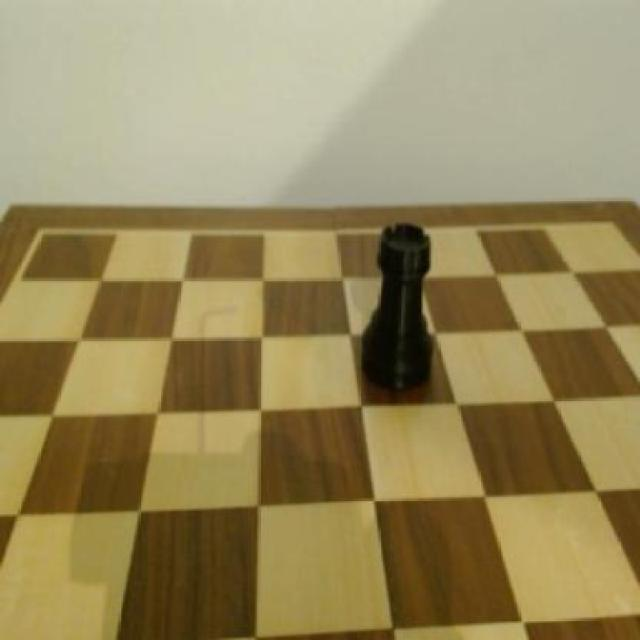black-queen: (351, 212, 442, 407)
